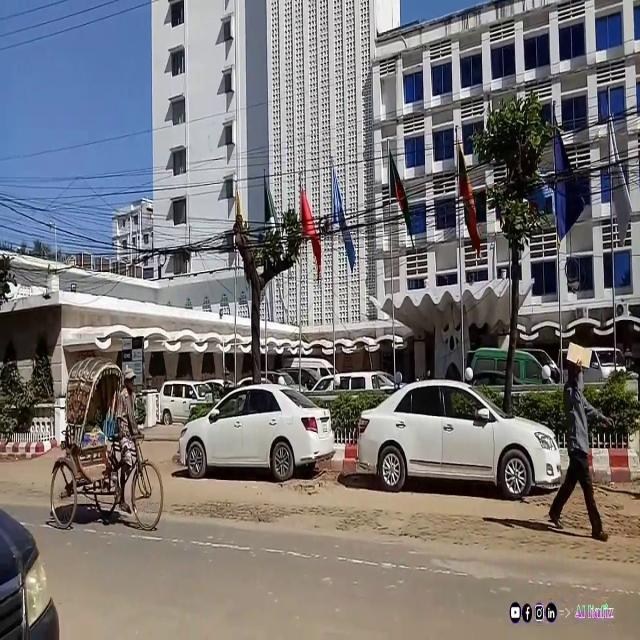white: (350, 376, 562, 498), (180, 378, 336, 492), (158, 380, 212, 421)
